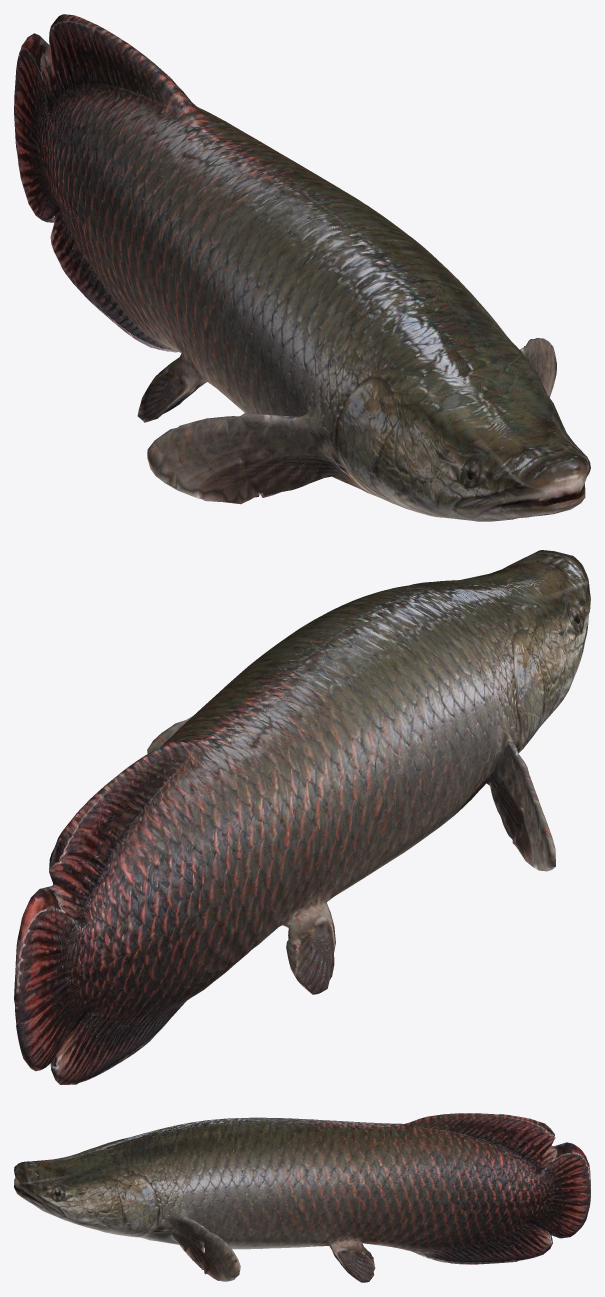
The model's file is fish_arapaima.glb.
3 renders of one model, top to bottom at view 1: azimuth 30°, elevation 25°; view 2: azimuth 150°, elevation 25°; view 3: azimuth 270°, elevation 25°, orthographic. The views are drawn at different scales.
Parts seen in each view (by area): view 1: geometry_0; view 2: geometry_0; view 3: geometry_0.
Boxes of the visible parts, x1=… form: geometry_0: x1=14, y1=14, x2=590, y2=521; geometry_0: x1=14, y1=550, x2=590, y2=1084; geometry_0: x1=14, y1=1113, x2=590, y2=1282.
Size of the model in its own units: 0.8406 by 0.5665 by 1.96.
Materials: 1 (1 with a texture image).
